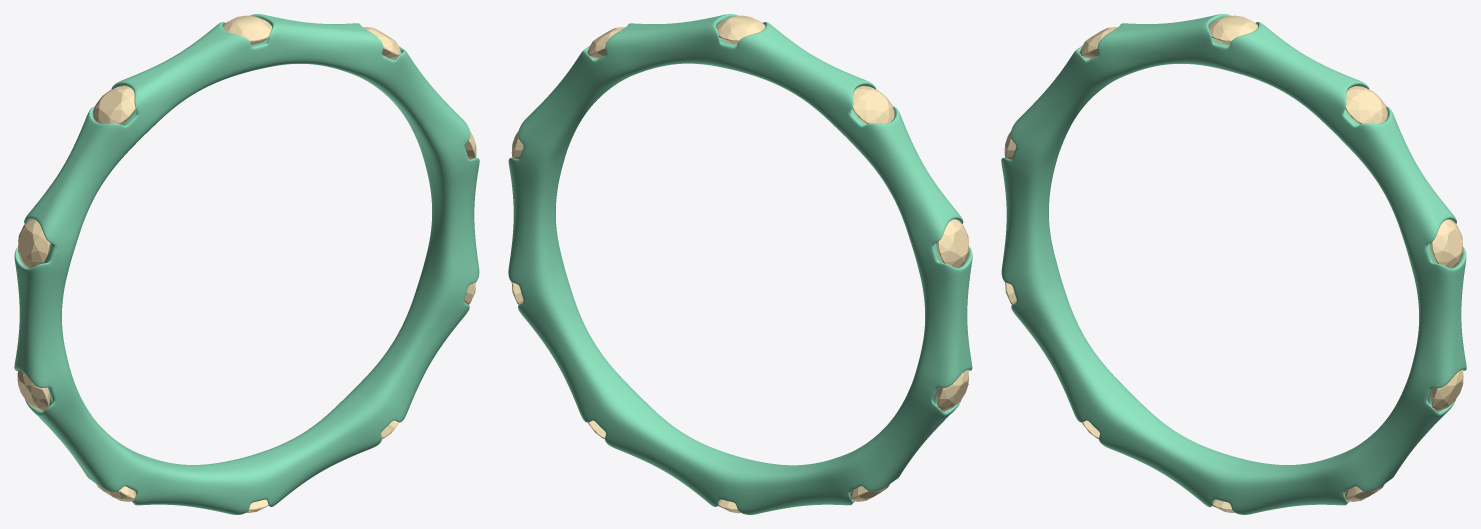
3 views of the same model, side by side, from view 1: azimuth 30°, elevation 25°; view 2: azimuth 150°, elevation 25°; view 3: azimuth 330°, elevation 25° (orthographic).
Visible parts, largest first — view 1: Metal02, Diamond_Round.003, Diamond_Round.004, Diamond_Round, Diamond_Round.002; view 2: Metal02, Diamond_Round.003, Diamond_Round.004, Diamond_Round, Diamond_Round.002; view 3: Metal02, Diamond_Round.008, Diamond_Round.007, Diamond_Round, Diamond_Round.001.
Boxes of the visible parts, box(x1,y1,x2,y2) form: Metal02: box(14, 14, 479, 514); Diamond_Round.003: box(93, 86, 135, 124); Diamond_Round.004: box(18, 219, 50, 268); Diamond_Round: box(223, 15, 271, 44); Diamond_Round.002: box(17, 369, 50, 411); Metal02: box(508, 14, 972, 514); Diamond_Round.003: box(852, 86, 894, 123); Diamond_Round.004: box(936, 219, 969, 267); Diamond_Round: box(716, 15, 765, 44); Diamond_Round.002: box(936, 369, 968, 411); Metal02: box(1001, 14, 1466, 514); Diamond_Round.008: box(1345, 86, 1387, 124); Diamond_Round.007: box(1430, 219, 1463, 268); Diamond_Round: box(1209, 15, 1257, 44); Diamond_Round.001: box(1430, 369, 1463, 411).
Bounding box in the file's own units: 19.57 × 20.17 × 2.07.
